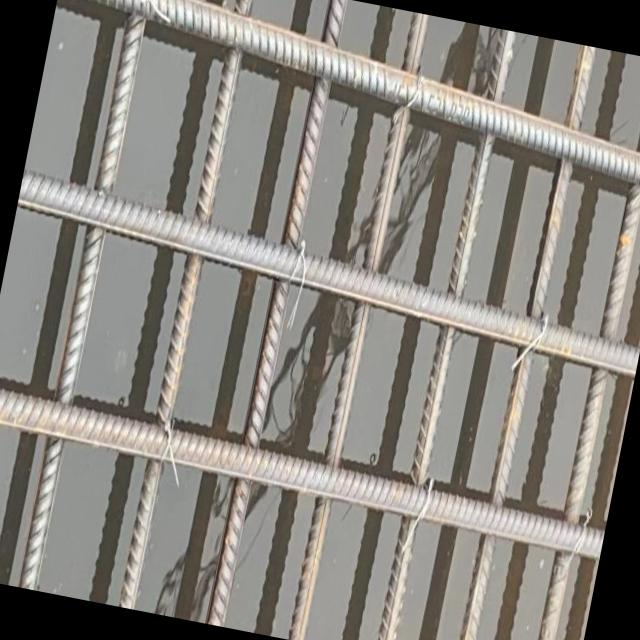ribbed bar: (7, 168, 640, 380), (43, 0, 640, 194), (0, 382, 610, 560), (205, 0, 348, 627), (286, 13, 427, 640), (374, 30, 515, 640), (116, 0, 257, 610), (453, 46, 596, 640), (14, 0, 157, 590), (528, 60, 640, 640)
